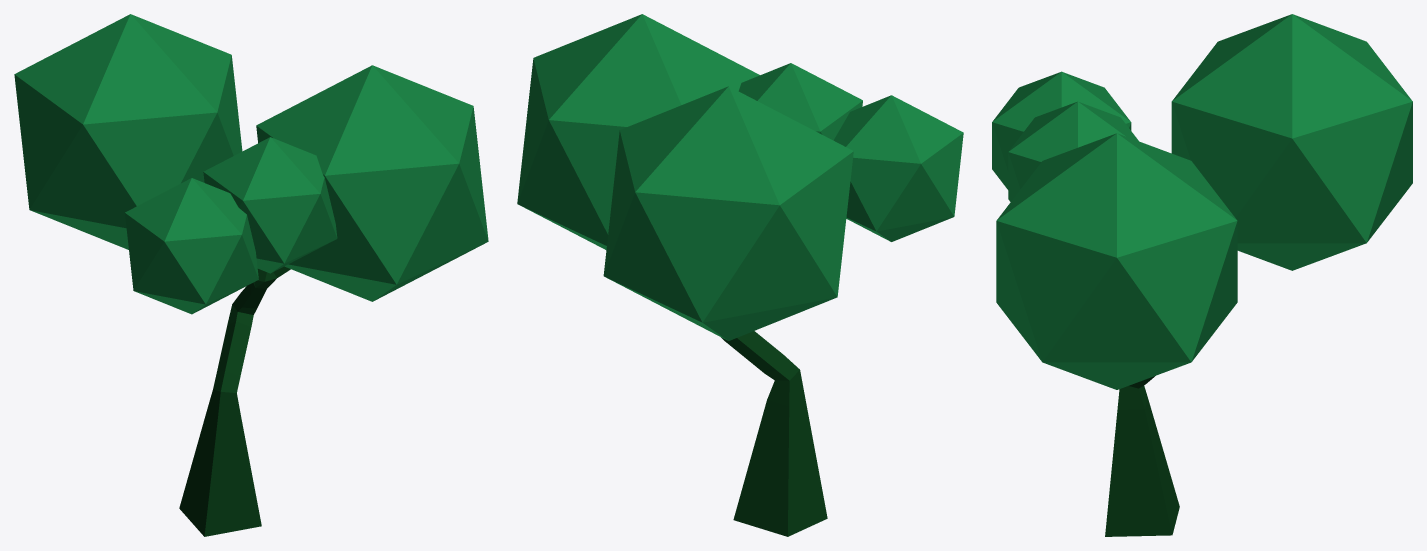
File: tree.fbx
3 views of the same model, side by side, from view 1: azimuth 30°, elevation 25°; view 2: azimuth 150°, elevation 25°; view 3: azimuth 270°, elevation 25° (orthographic). The views are drawn at different scales.
Visible parts, largest first — view 1: Icosphere.003, Icosphere, Icosphere.001, Cube, Icosphere.002; view 2: Icosphere.003, Icosphere, Icosphere.001, Cube, Icosphere.002; view 3: Icosphere, Icosphere.003, Cube, Icosphere.002, Icosphere.001.
Boxes of the visible parts, left/top/right/bottom form: Icosphere.003: left=14, top=14, right=242, bottom=249; Icosphere: left=256, top=65, right=488, bottom=301; Icosphere.001: left=125, top=178, right=258, bottom=314; Cube: left=179, top=266, right=290, bottom=536; Icosphere.002: left=203, top=137, right=337, bottom=273; Icosphere.003: left=603, top=86, right=853, bottom=340; Icosphere: left=517, top=14, right=759, bottom=249; Icosphere.001: left=833, top=95, right=963, bottom=241; Cube: left=721, top=331, right=827, bottom=536; Icosphere.002: left=738, top=63, right=862, bottom=140; Icosphere: left=996, top=133, right=1237, bottom=389; Icosphere.003: left=1171, top=14, right=1412, bottom=270; Cube: left=1105, top=376, right=1179, bottom=536; Icosphere.002: left=1008, top=101, right=1138, bottom=201; Icosphere.001: left=992, top=71, right=1131, bottom=189.
Size of the model in its own units: 672 by 808 by 617.
